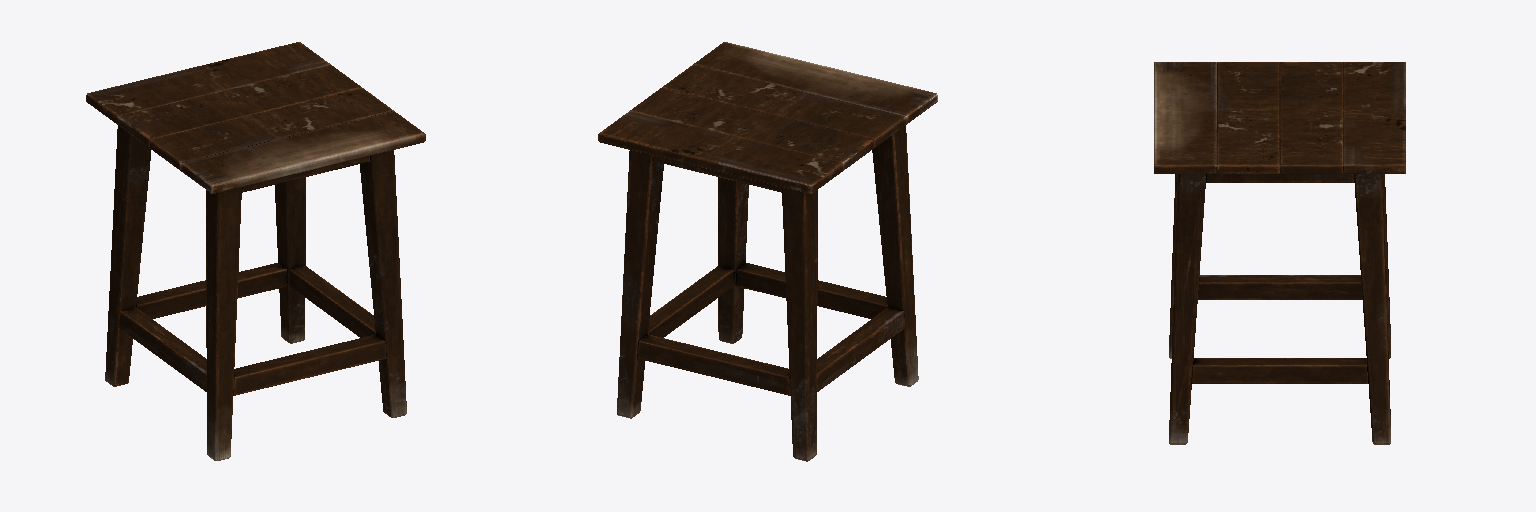
3 renders of one model, left to right at view 1: azimuth 30°, elevation 25°; view 2: azimuth 150°, elevation 25°; view 3: azimuth 270°, elevation 25°, orthographic.
Parts seen in each view (by area): view 1: default; view 2: default; view 3: default.
Part boxes in pixels (bbox=[...]): default: bbox=[86, 42, 425, 460]; default: bbox=[598, 42, 937, 461]; default: bbox=[1154, 62, 1405, 444].
Bounding box in the file's own units: 2.08 × 2.65 × 2.13.
Materials: 1 (1 with a texture image).